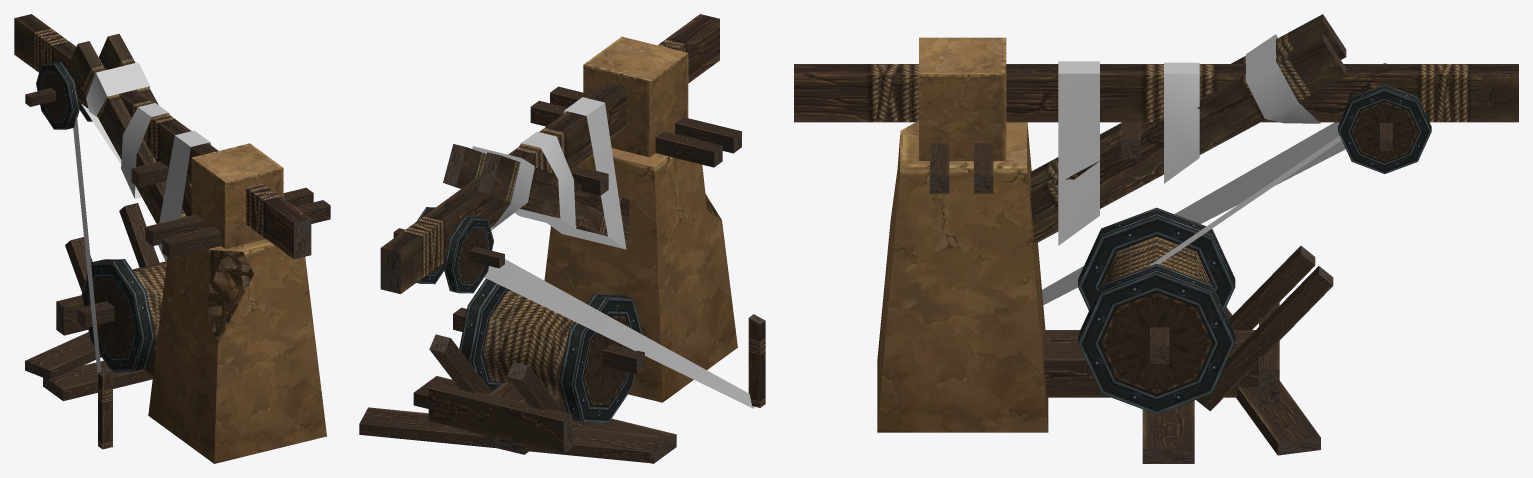
File: A_mutou_019.fbx
3 views of the same model, side by side, from view 1: azimuth 30°, elevation 25°; view 2: azimuth 150°, elevation 25°; view 3: azimuth 270°, elevation 25° (orthographic). The views are drawn at different scales.
Parts seen in each view (by area): view 1: pasted__A_mutou_019; view 2: pasted__A_mutou_019; view 3: pasted__A_mutou_019.
Part boxes in pixels (x1,y1,x2,y2): pasted__A_mutou_019: [14, 14, 330, 463]; pasted__A_mutou_019: [359, 14, 765, 463]; pasted__A_mutou_019: [794, 14, 1518, 463].
Size of the model in its own units: 328 by 383 by 671.
